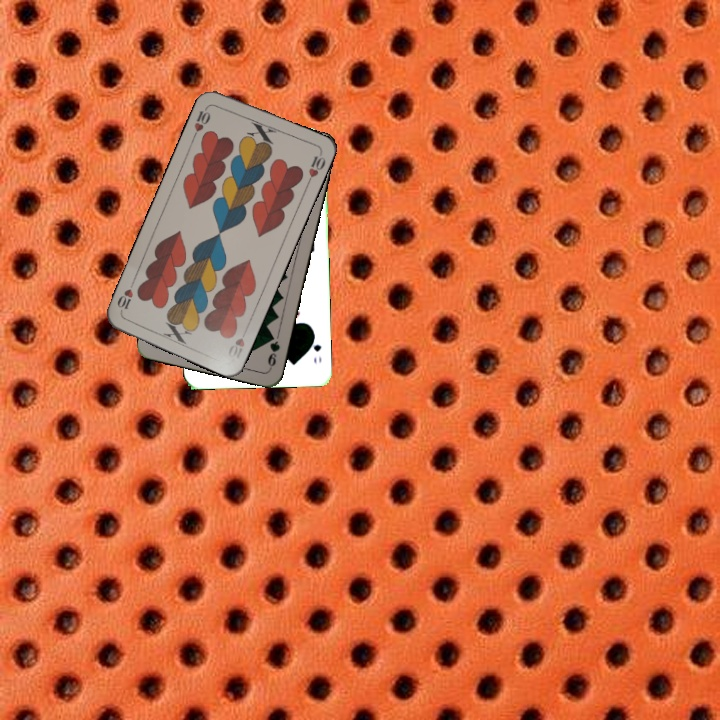G9: (264, 330, 283, 371)
GO: (307, 330, 324, 366)
H10: (224, 324, 249, 363), (189, 102, 213, 140)
